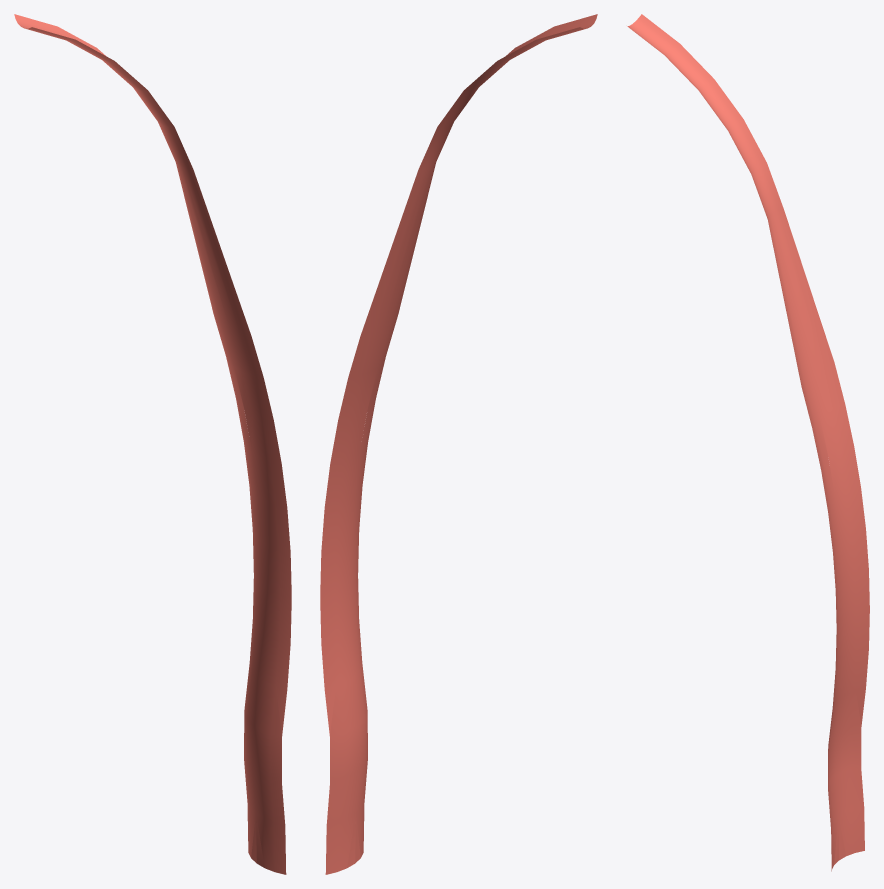
The model's file is esophagusColliderSide1.FBX.
The picture shows the model from 3 angles, left to right: view 1: azimuth 30°, elevation 25°; view 2: azimuth 150°, elevation 25°; view 3: azimuth 330°, elevation 25°; orthographic projection. The views are drawn at different scales.
Visible parts, largest first — view 1: Mesh033; view 2: Mesh033; view 3: Mesh033.
Part boxes in pixels (left/top/right/bottom): Mesh033: left=14, top=14, right=291, bottom=874; Mesh033: left=320, top=14, right=597, bottom=874; Mesh033: left=627, top=14, right=869, bottom=871.
Bounding box in the file's own units: 18.76 × 64.02 × 4.85.
